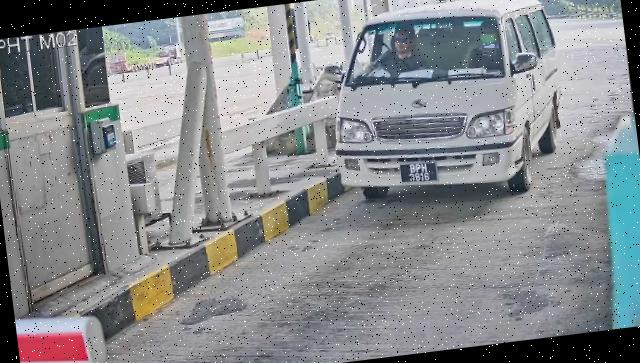License_Plate: (399, 160, 440, 189)
van: (319, 1, 572, 214)
